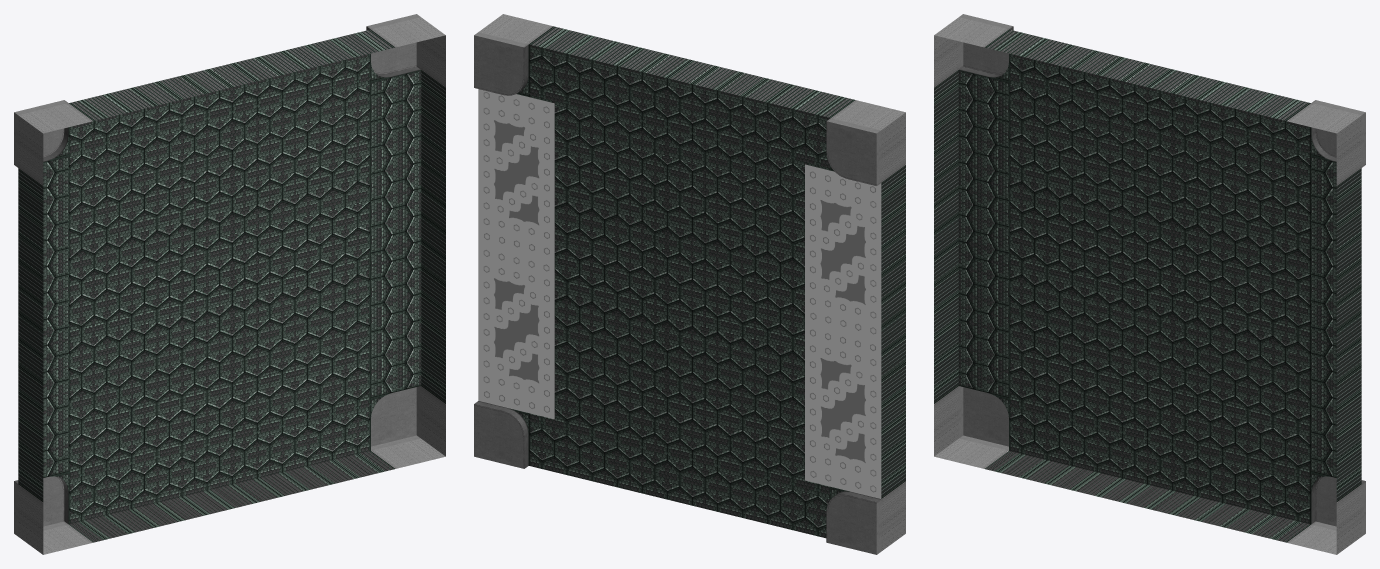
File: TC_road_crossroad.fbx
3 views of the same model, side by side, from view 1: azimuth 30°, elevation 25°; view 2: azimuth 150°, elevation 25°; view 3: azimuth 330°, elevation 25° (orthographic).
Parts seen in each view (by area): view 1: TC_road_crossroad; view 2: TC_road_crossroad, crosswalk_001; view 3: TC_road_crossroad.
Boxes of the visible parts, x1=… form: TC_road_crossroad: x1=14, y1=14, x2=445, y2=554; TC_road_crossroad: x1=474, y1=14, x2=905, y2=554; crosswalk_001: x1=478, y1=89, x2=881, y2=498; TC_road_crossroad: x1=934, y1=14, x2=1365, y2=554.
Bounding box in the file's own units: 8 × 8 × 1.
